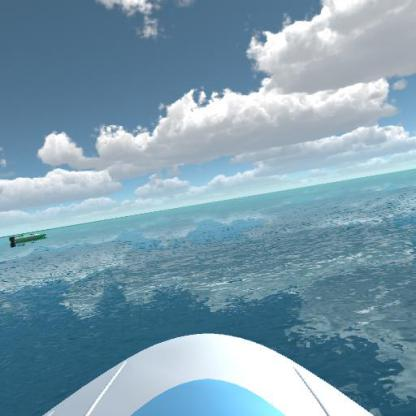usv0: (8, 231, 49, 248)
